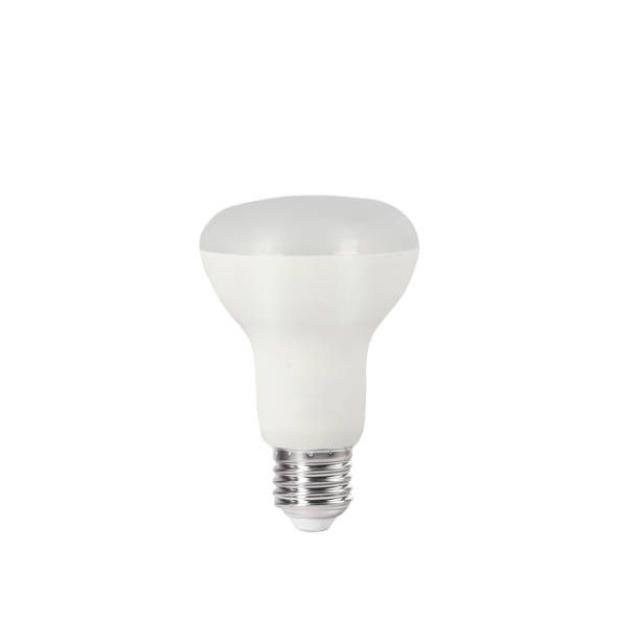electronic: (198, 192, 419, 532)
